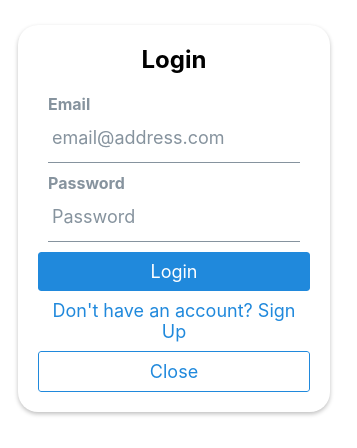
Test: Login Screen › displays an error message when no password is entered
In the field with placeholder "email@address.com": (196, 138) x1=52 y1=118 x2=340 y2=158, type "user@example.com"
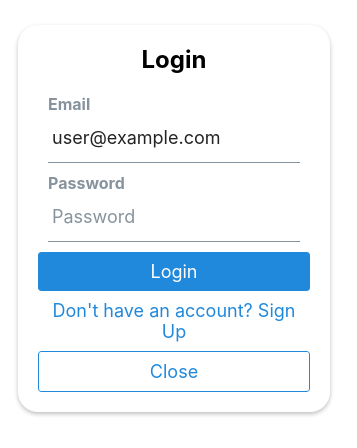
Click the button with test id "loginButton": (174, 271) x1=38 y1=252 x2=310 y2=290
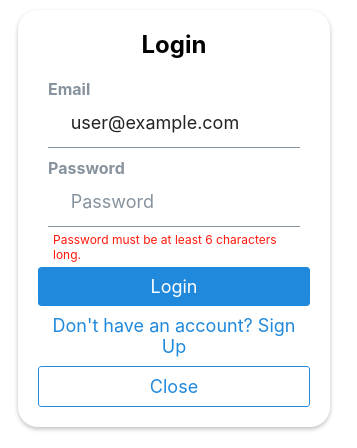
Now the text "Password must be at least 6 characters long." is shown, box x1=53 y1=232 x2=295 y2=262
